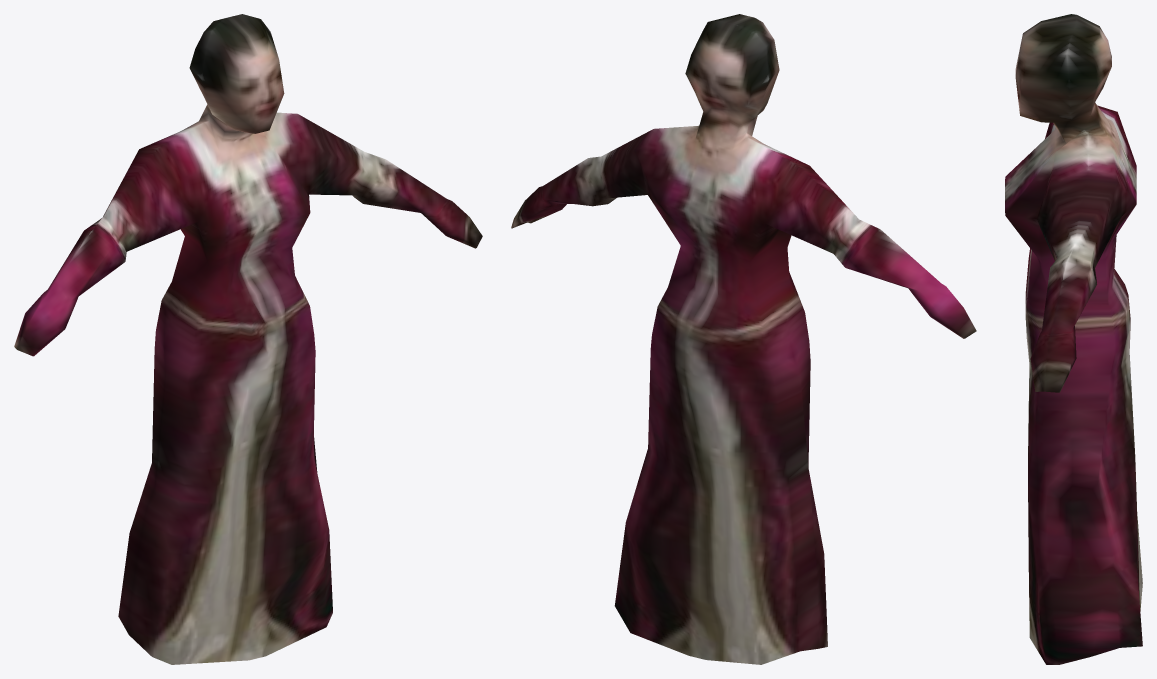
File: Lady1.fbx
3 views of the same model, side by side, from view 1: azimuth 30°, elevation 25°; view 2: azimuth 150°, elevation 25°; view 3: azimuth 270°, elevation 25° (orthographic).
Visible parts, largest first — view 1: Cube.007; view 2: Cube.007; view 3: Cube.007.
Part boxes in pixels (left/top/right/bottom): Cube.007: left=14, top=14, right=482, bottom=664; Cube.007: left=511, top=14, right=976, bottom=664; Cube.007: left=1005, top=14, right=1142, bottom=664.
Size of the model in its own units: 838 by 1074 by 218.
